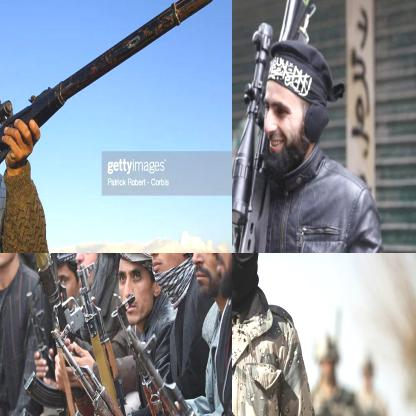rifle: (0, 0, 231, 207), (232, 0, 322, 252), (232, 0, 295, 220), (52, 328, 156, 415), (110, 295, 182, 415), (76, 257, 126, 415), (124, 321, 206, 415), (232, 336, 314, 415), (1, 253, 68, 347)
